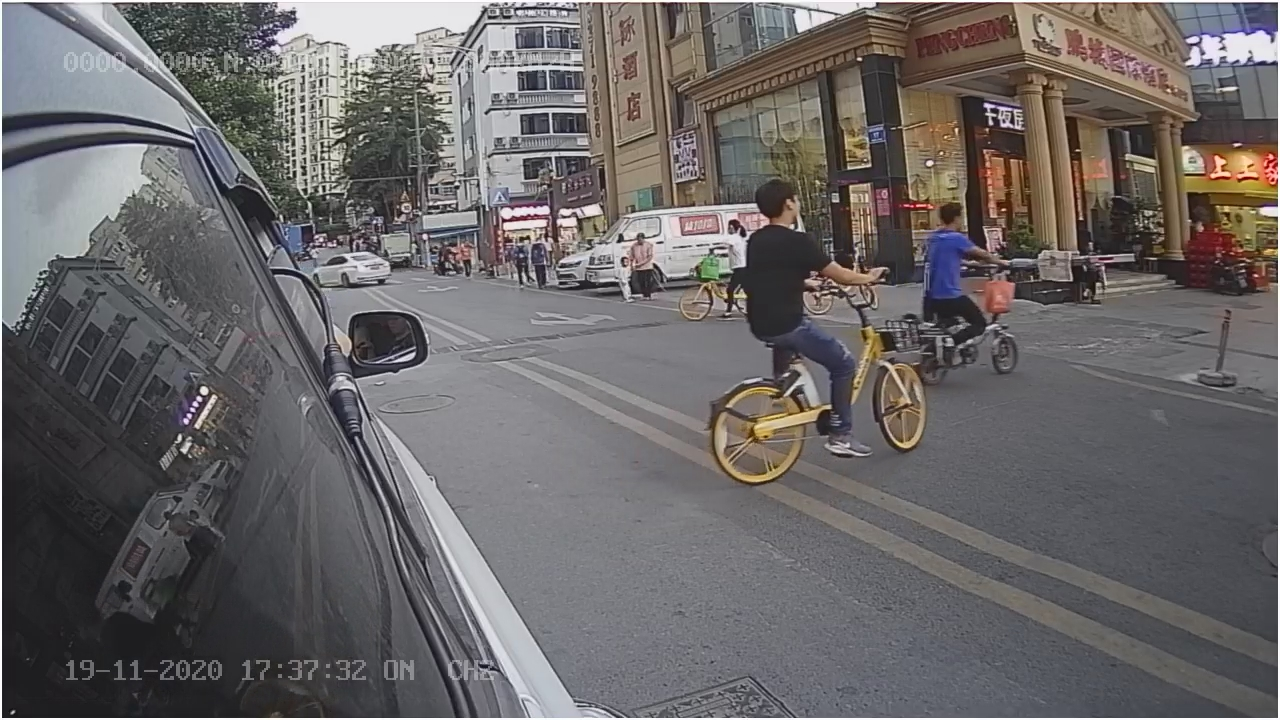person: (741, 174, 856, 356)
